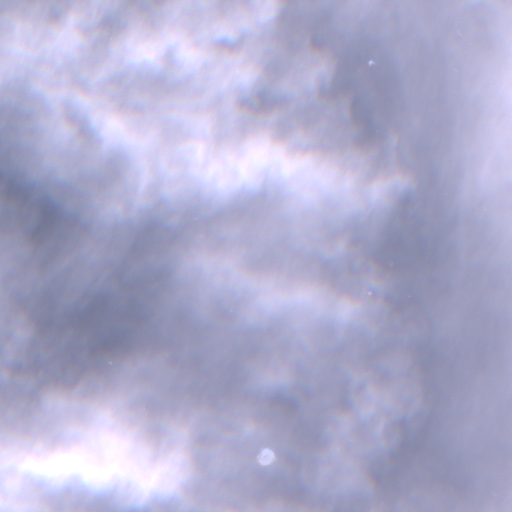Iceberg: (258, 448, 274, 465), (368, 60, 373, 65)
